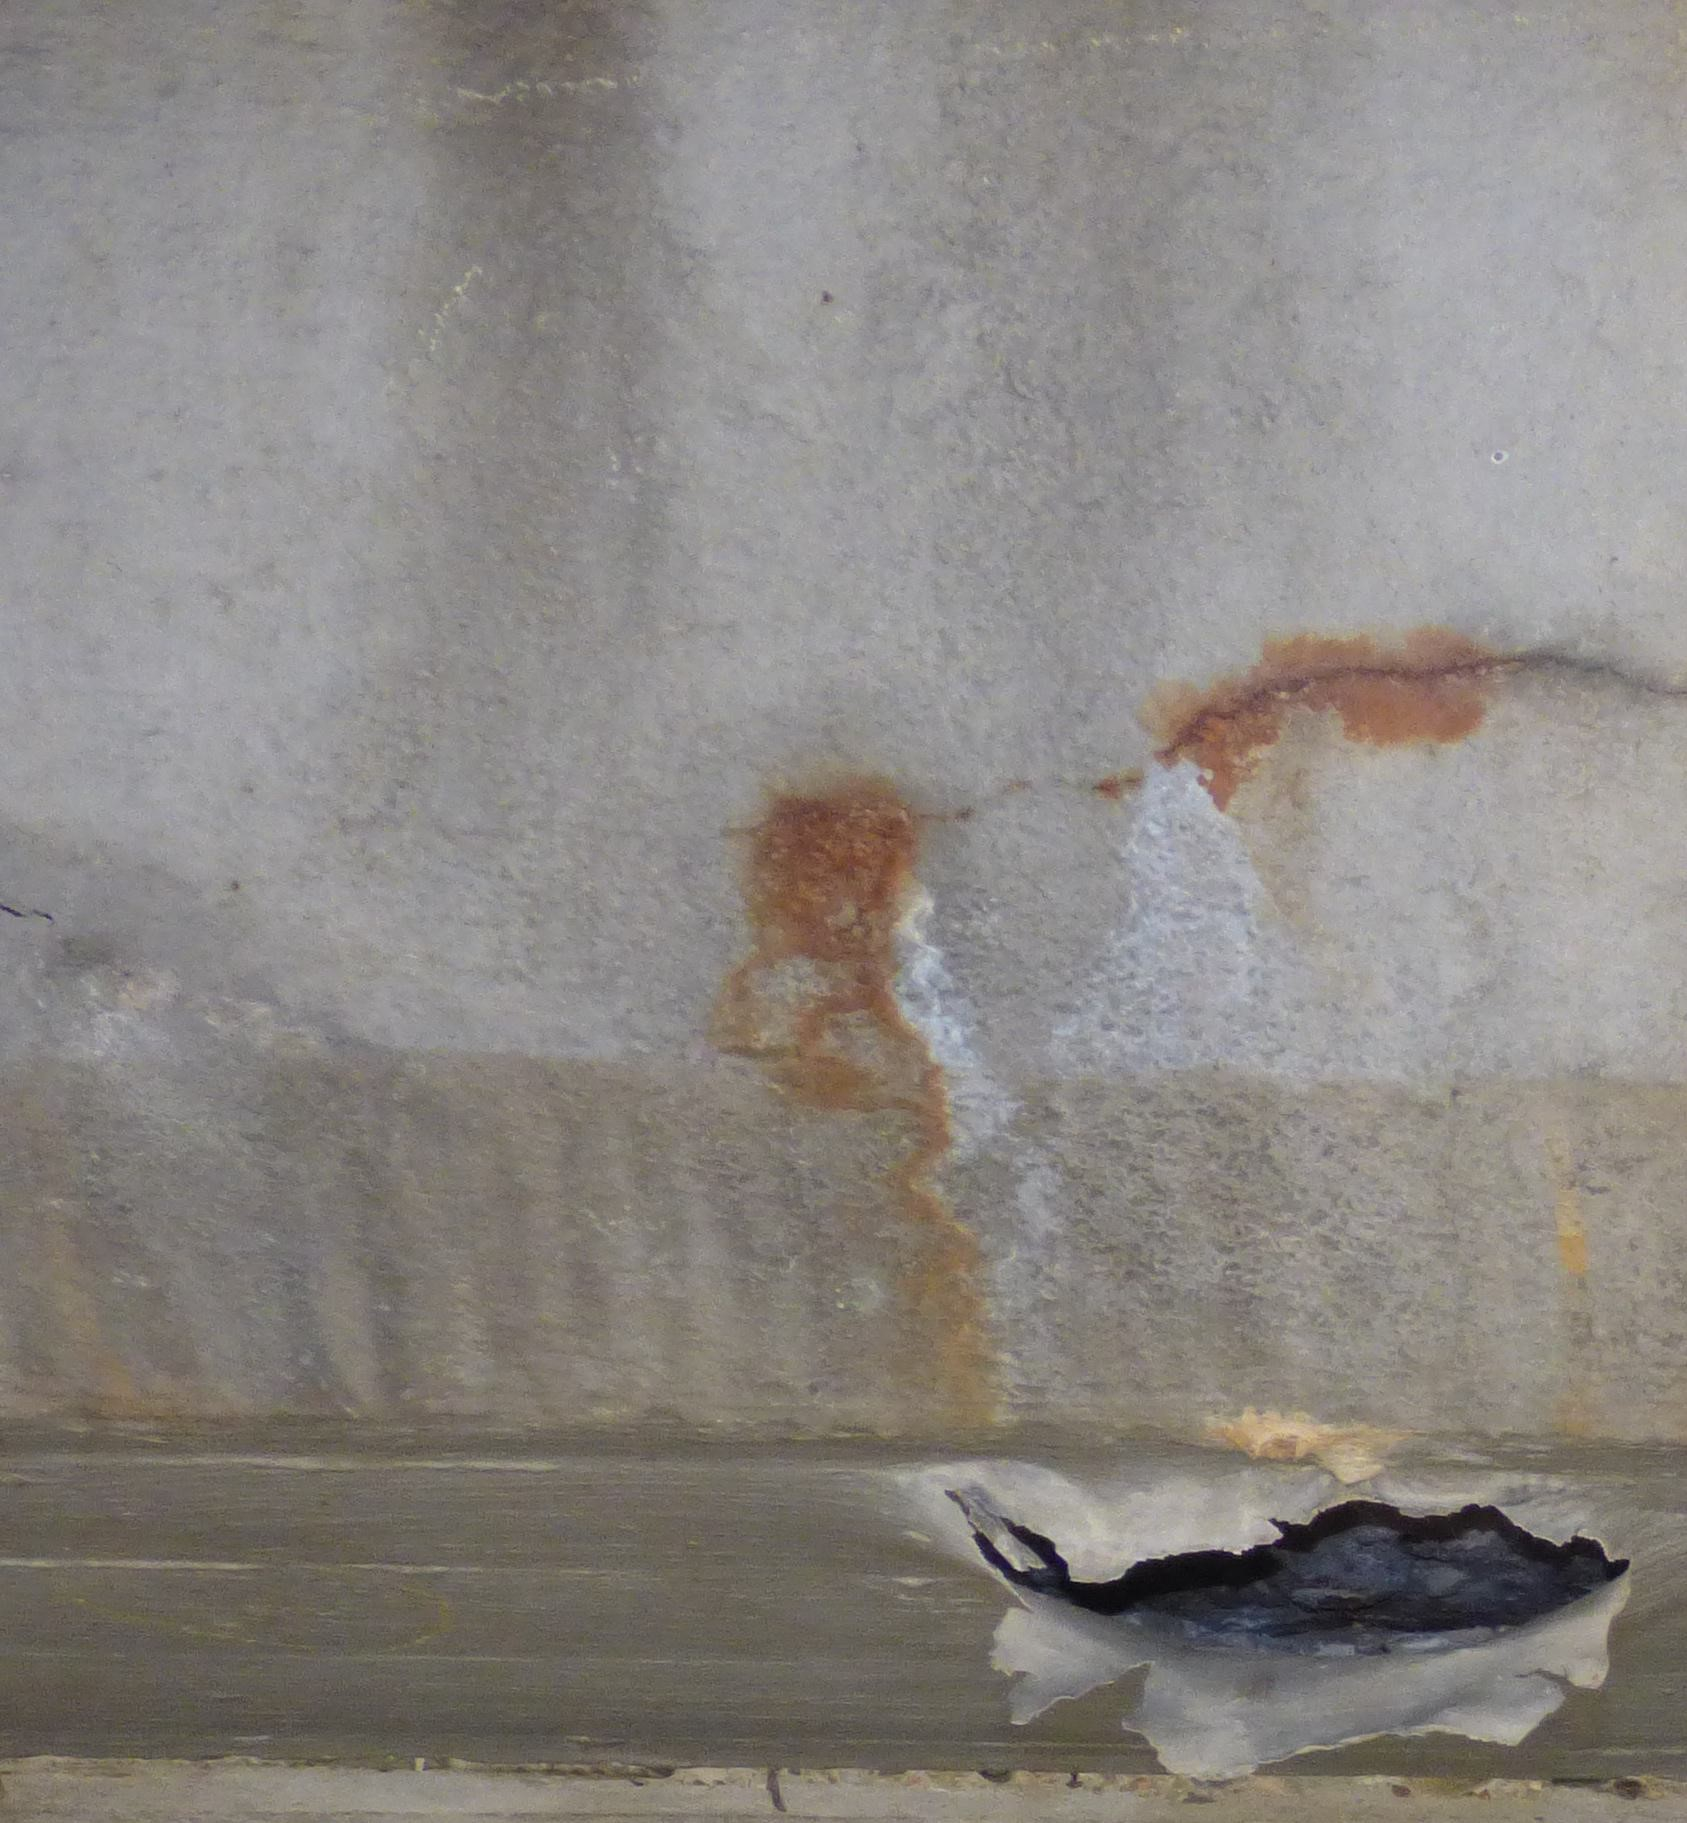Corrosion: (716, 777, 1002, 1423), (1091, 627, 1484, 815)
Crack: (721, 649, 1687, 840)
Spalling: (937, 1475, 1638, 1777)
